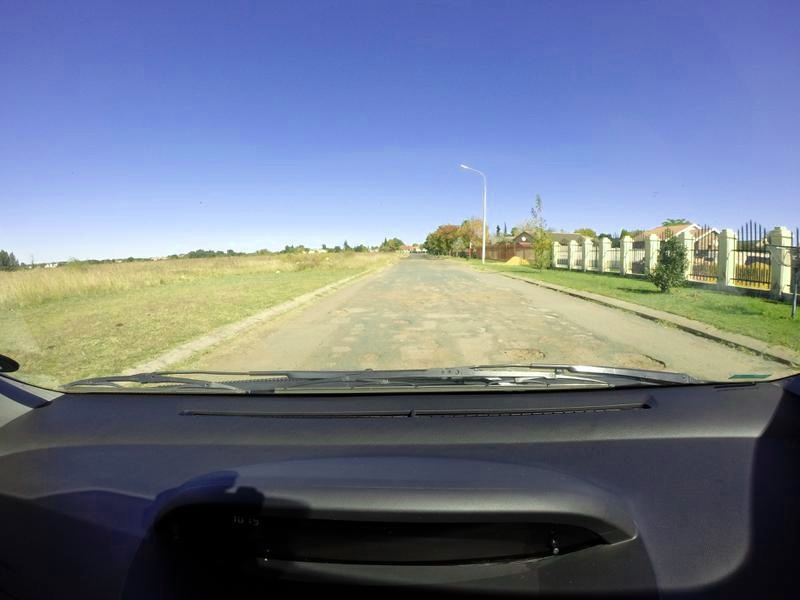pothole: (606, 345, 682, 369), (495, 340, 559, 365), (390, 313, 415, 331), (356, 350, 380, 366)
